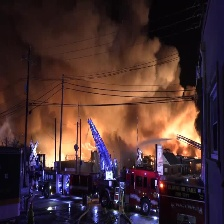fire: (43, 149, 67, 169), (164, 124, 191, 141)
smoke: (2, 3, 204, 127)
